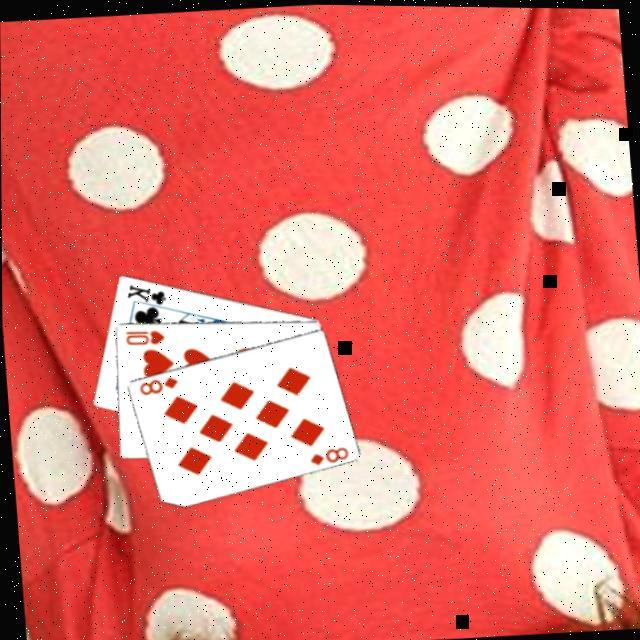10H: (120, 326, 166, 350)
8D: (304, 444, 350, 469), (134, 374, 179, 399)
KC: (121, 280, 169, 316)
